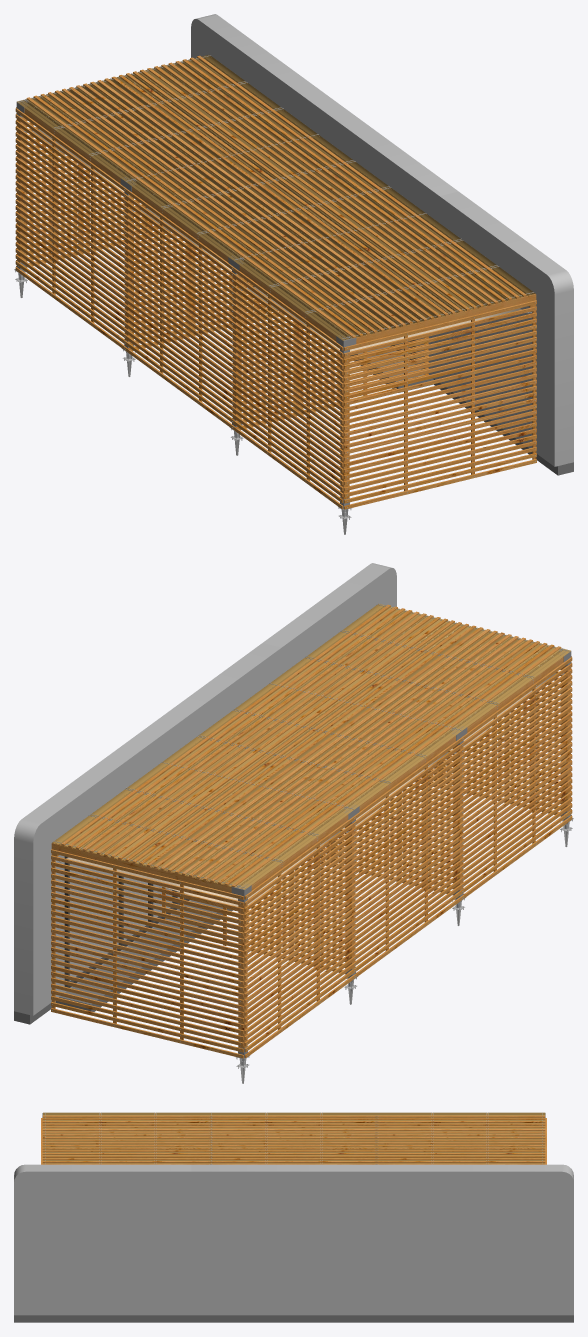
File: glb-murale.glb
The picture shows the model from 3 angles, top to bottom: view 1: azimuth 30°, elevation 25°; view 2: azimuth 150°, elevation 25°; view 3: azimuth 270°, elevation 25°; orthographic projection. The views are drawn at different scales.
Parts seen in each view (by area): view 1: 3x9_OPT_RideauBriseVue_5, 3x9_BASE_Mur, 3x9_OPT_RideauBriseVue_4, 3x3_OPT_RideauBriseVue_2, 3x9_OPT_ToitureBriseSoleil_3, 3x6_OPT_RideauBriseVue_3, 3x3_OPT_ToitureBriseSoleil_1, 3x9_OPT_PaillassonCamarguais_3, 3x6_OPT_ToitureBriseSoleil_2, 3x3_OPT_PaillassonCamarguais_1, 3x6_OPT_PaillassonCamarguais_2, 3x6_BASE_Mur (+12 smaller); view 2: 3x3_OPT_RideauBriseVue_1, 3x9_OPT_RideauBriseVue_4, 3x9_BASE_Mur, 3x3_OPT_RideauBriseVue_2, 3x9_OPT_ToitureBriseSoleil_3, 3x6_BASE_Mur, 3x6_OPT_RideauBriseVue_3, 3x3_BASE_Mur, 3x3_OPT_ToitureBriseSoleil_1, 3x9_OPT_PaillassonCamarguais_3, 3x6_OPT_ToitureBriseSoleil_2, 3x3_OPT_PaillassonCamarguais_1 (+12 smaller); view 3: 3x3_BASE_Mur, 3x9_BASE_Mur, 3x6_BASE_Mur, 3x9_OPT_ToitureBriseSoleil_3, 3x3_OPT_ToitureBriseSoleil_1, 3x6_OPT_ToitureBriseSoleil_2, 3x9_OPT_PaillassonCamarguais_3, 3x3_OPT_PaillassonCamarguais_1, 3x6_OPT_PaillassonCamarguais_2, 3x9_OPT_ToitureBriseSoleil_2, 3x6_OPT_ToitureBriseSoleil_1.
Boxes of the visible parts, x1,y1,x2,y2 form: 3x9_OPT_RideauBriseVue_5: [343, 300, 536, 509]; 3x9_BASE_Mur: [191, 14, 573, 475]; 3x9_OPT_RideauBriseVue_4: [232, 268, 343, 509]; 3x3_OPT_RideauBriseVue_2: [15, 108, 127, 351]; 3x9_OPT_ToitureBriseSoleil_3: [244, 215, 526, 338]; 3x6_OPT_RideauBriseVue_3: [125, 190, 235, 429]; 3x3_OPT_ToitureBriseSoleil_1: [26, 55, 310, 179]; 3x9_OPT_PaillassonCamarguais_3: [232, 212, 535, 340]; 3x6_OPT_ToitureBriseSoleil_2: [136, 136, 418, 258]; 3x3_OPT_PaillassonCamarguais_1: [17, 54, 316, 180]; 3x6_OPT_PaillassonCamarguais_2: [125, 133, 424, 259]; 3x6_BASE_Mur: [191, 14, 458, 394]; 3x3_OPT_RideauBriseVue_1: [51, 849, 244, 1058]; 3x9_OPT_RideauBriseVue_4: [462, 657, 572, 897]; 3x9_BASE_Mur: [14, 563, 396, 1024]; 3x3_OPT_RideauBriseVue_2: [244, 815, 356, 1058]; 3x9_OPT_ToitureBriseSoleil_3: [280, 604, 561, 727]; 3x6_BASE_Mur: [14, 643, 289, 1024]; 3x6_OPT_RideauBriseVue_3: [354, 736, 464, 976]; 3x3_BASE_Mur: [14, 725, 187, 1023]; 3x3_OPT_ToitureBriseSoleil_1: [61, 762, 345, 887]; 3x9_OPT_PaillassonCamarguais_3: [268, 603, 570, 731]; 3x6_OPT_ToitureBriseSoleil_2: [172, 683, 452, 806]; 3x3_OPT_PaillassonCamarguais_1: [52, 764, 351, 889]; 3x3_BASE_Mur: [346, 1165, 573, 1315]; 3x9_BASE_Mur: [14, 1164, 573, 1322]; 3x6_BASE_Mur: [180, 1164, 569, 1315]; 3x9_OPT_ToitureBriseSoleil_3: [42, 1115, 210, 1164]; 3x3_OPT_ToitureBriseSoleil_1: [374, 1115, 545, 1164]; 3x6_OPT_ToitureBriseSoleil_2: [208, 1115, 376, 1164]; 3x9_OPT_PaillassonCamarguais_3: [43, 1112, 213, 1163]; 3x3_OPT_PaillassonCamarguais_1: [379, 1112, 545, 1163]; 3x6_OPT_PaillassonCamarguais_2: [213, 1112, 379, 1163]; 3x9_OPT_ToitureBriseSoleil_2: [211, 1116, 376, 1164]; 3x6_OPT_ToitureBriseSoleil_1: [377, 1116, 545, 1161].
Size of the model in its own units: 3.33 by 3.32 by 9.82.
Materials: 3 (3 with a texture image).
